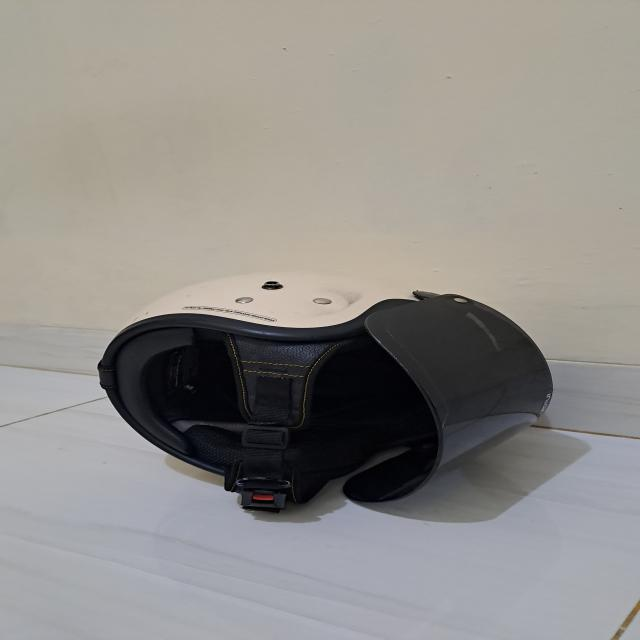Helm: (86, 259, 566, 519)
